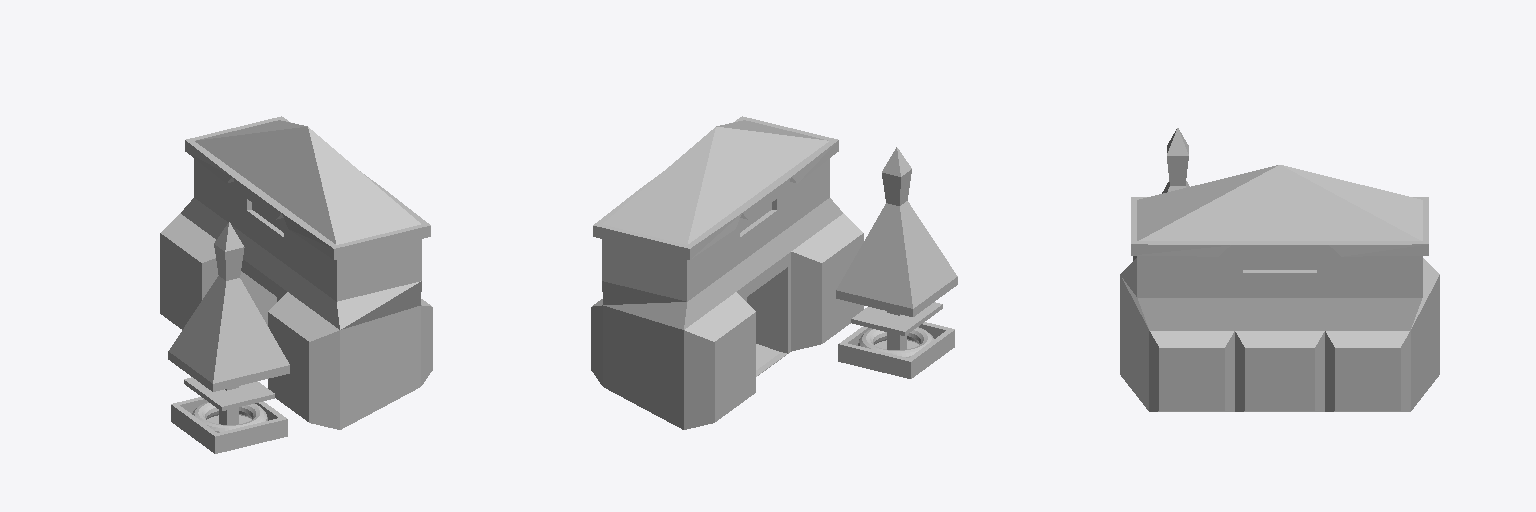
File: smeltery.obj
3 views of the same model, side by side, from view 1: azimuth 30°, elevation 25°; view 2: azimuth 150°, elevation 25°; view 3: azimuth 270°, elevation 25° (orthographic).
Parts seen in each view (by area): view 1: Cube; view 2: Cube; view 3: Cube.
Boxes of the visible parts, x1,y1,x2,y2 form: Cube: [160, 116, 432, 453]; Cube: [591, 116, 957, 429]; Cube: [1120, 128, 1439, 411].
Bounding box in the file's own units: 8.68 × 8.32 × 10.32.